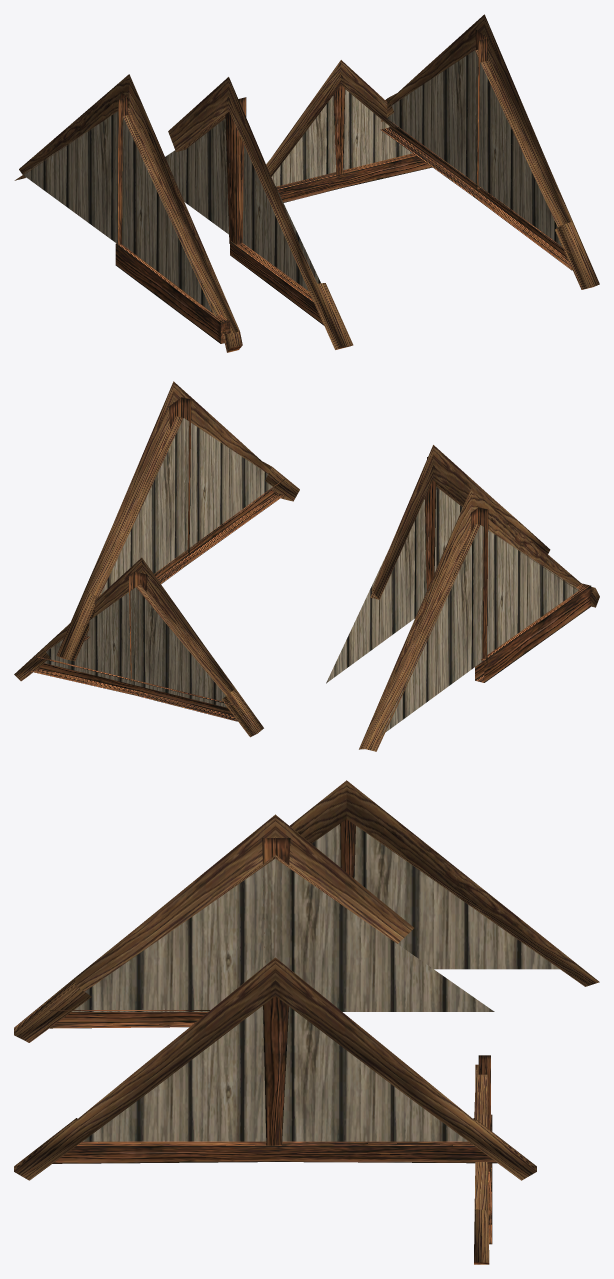
File: LAKETOWN_EXTERIOR_PS_LT_ROOFPARTS747__GX.fbx
The picture shows the model from 3 angles, top to bottom: view 1: azimuth 30°, elevation 25°; view 2: azimuth 150°, elevation 25°; view 3: azimuth 270°, elevation 25°; orthographic projection. The views are drawn at different scales.
Visible parts, largest first — view 1: LAKETOWN_EXTERIOR_PS_LT_ROOFPARTS747__GX; view 2: LAKETOWN_EXTERIOR_PS_LT_ROOFPARTS747__GX; view 3: LAKETOWN_EXTERIOR_PS_LT_ROOFPARTS747__GX.
Part boxes in pixels (x1,y1,x2,y2): LAKETOWN_EXTERIOR_PS_LT_ROOFPARTS747__GX: (14,14,599,352); LAKETOWN_EXTERIOR_PS_LT_ROOFPARTS747__GX: (14,381,599,751); LAKETOWN_EXTERIOR_PS_LT_ROOFPARTS747__GX: (14,780,599,1264).
Size of the model in its own units: 76200 by 43711 by 84125.
5 materials, 5 textured.
